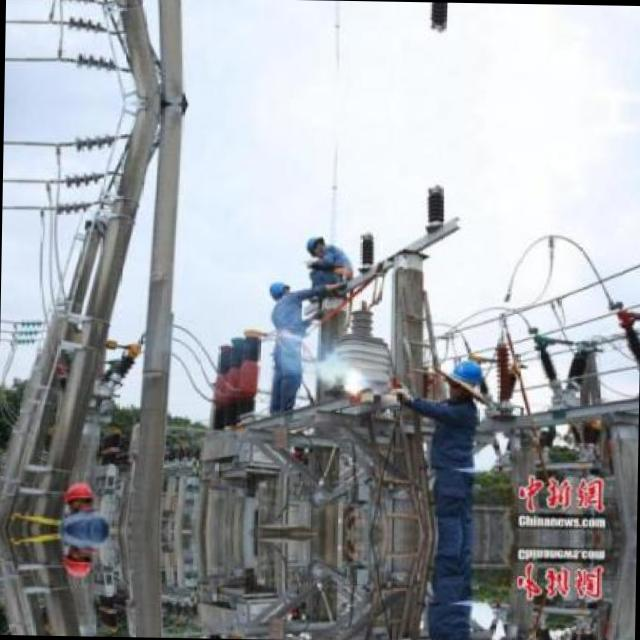helmet: (444, 352, 486, 404), (62, 478, 94, 514), (62, 542, 94, 578), (266, 278, 292, 298), (304, 233, 326, 253)
